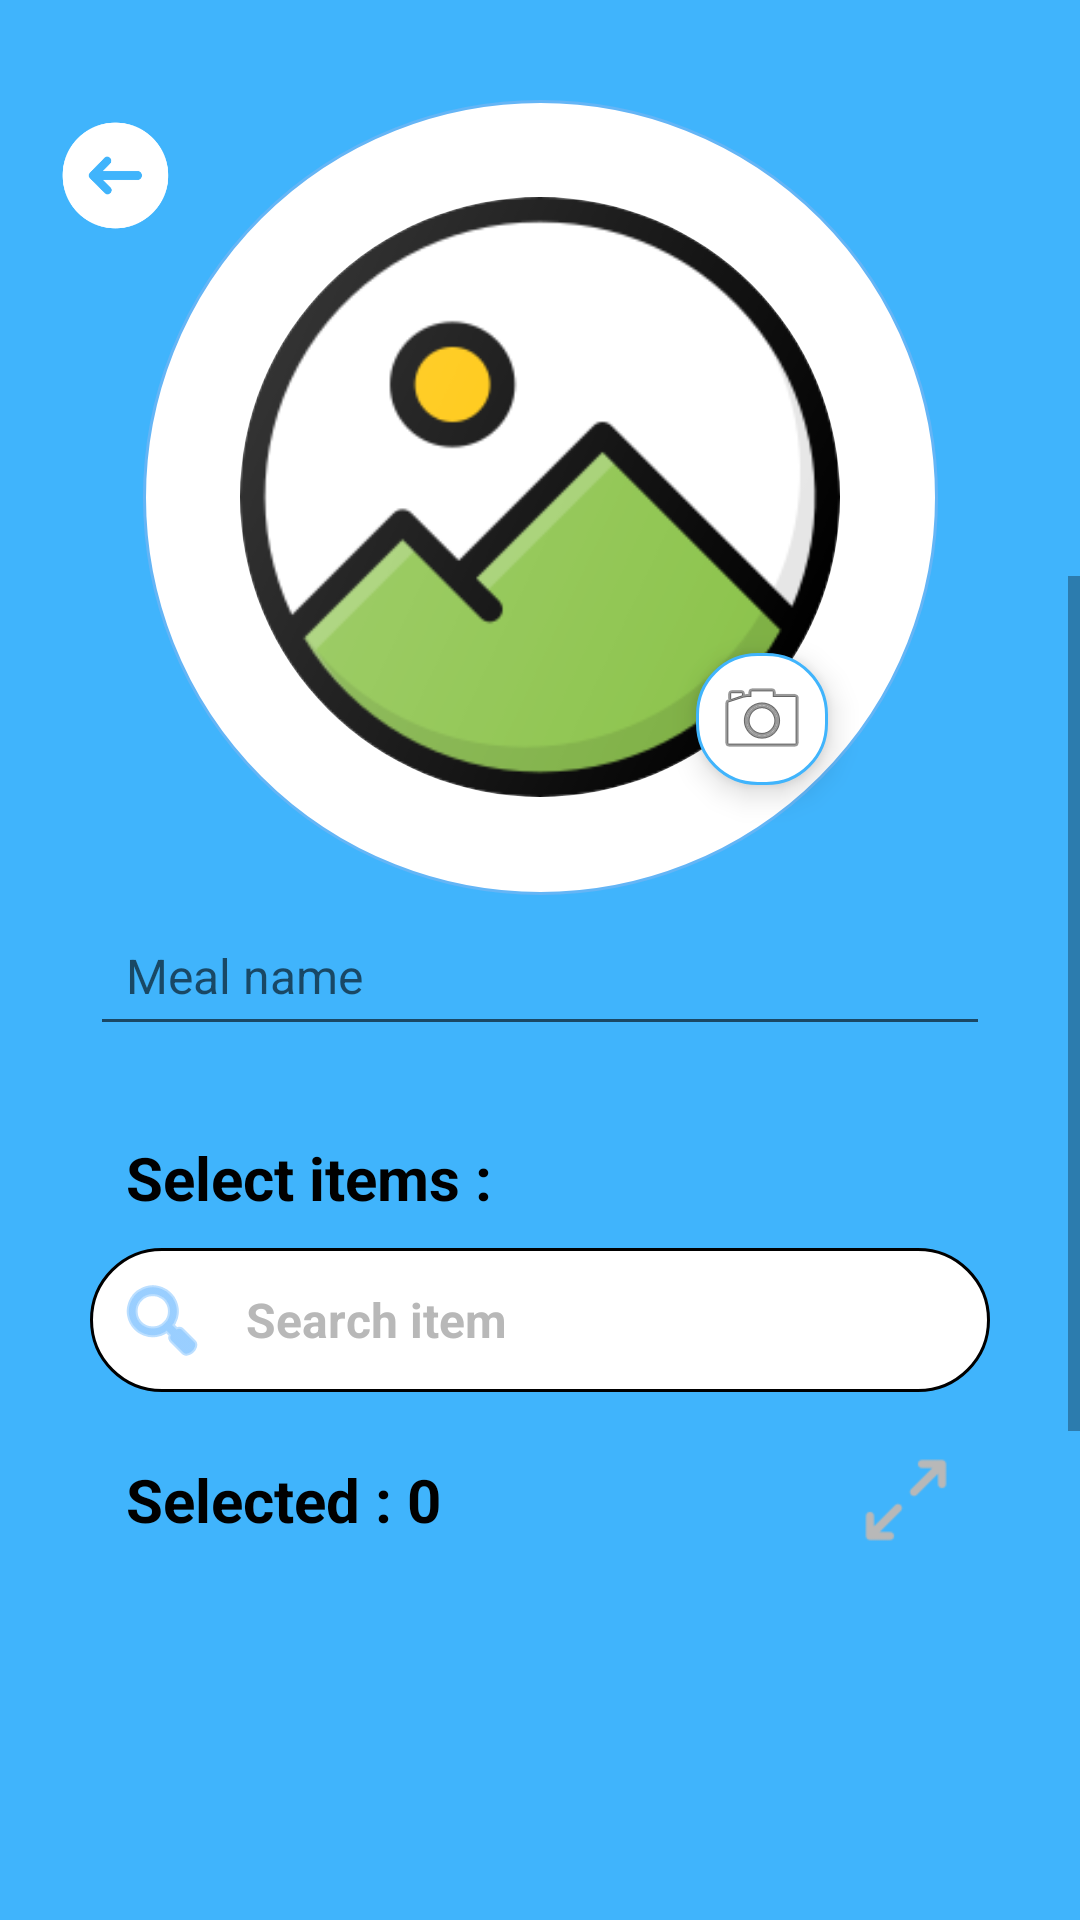

Icon bounding boxes for this 1080×1920 phone screenshot, format (x1, y1, x2, y2):
back arrow: (62, 122, 169, 229)
full screen: (865, 1459, 947, 1541)
